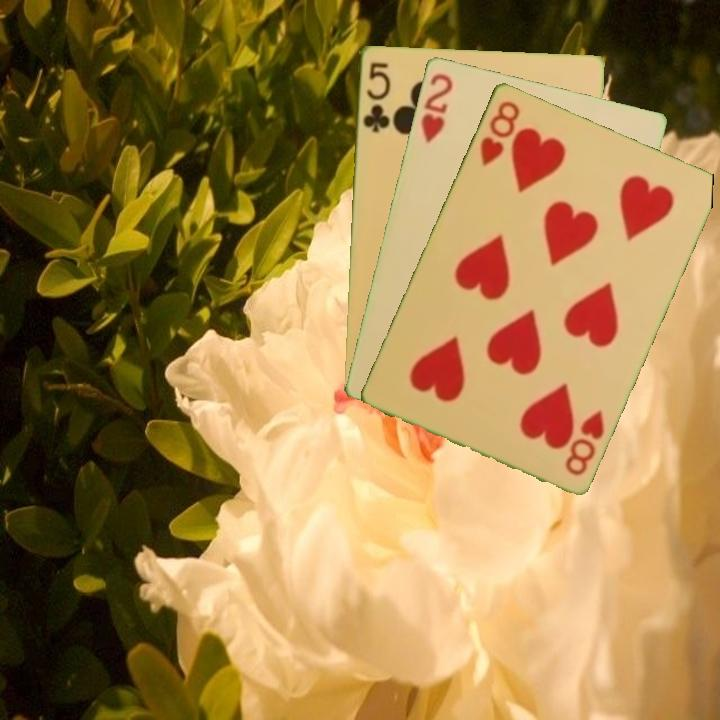2h: (417, 69, 455, 146)
5c: (359, 58, 393, 135)
8h: (476, 96, 523, 168), (561, 406, 607, 478)
